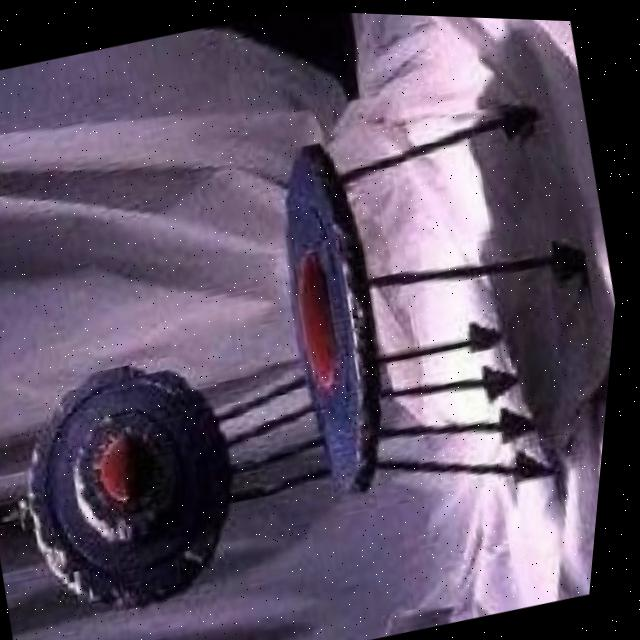sandalye: (0, 68, 635, 640)
